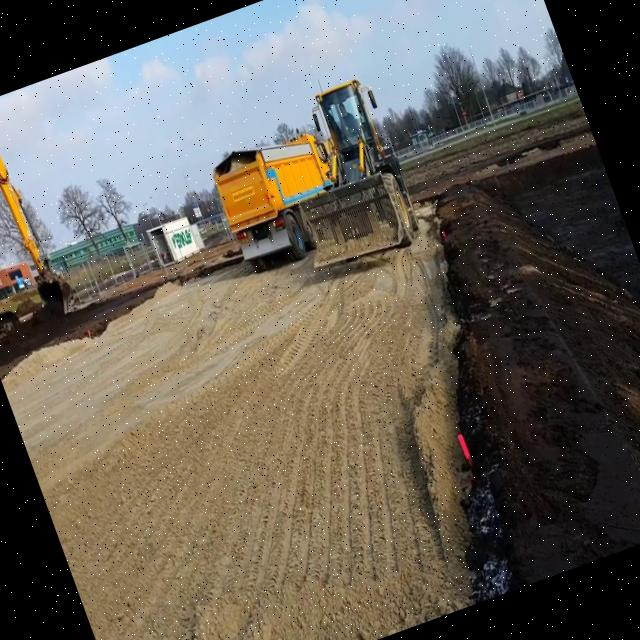Dump Truck: (204, 120, 358, 278)
Excavator: (0, 119, 82, 352)
Loader: (254, 62, 426, 276)
